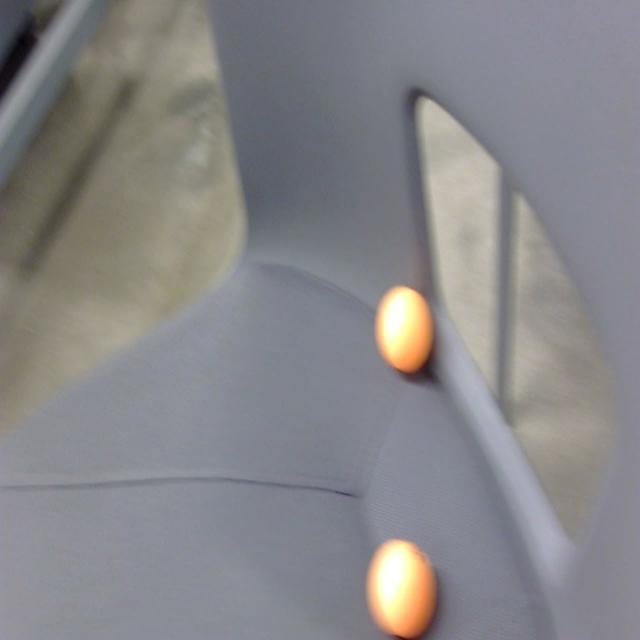ball: (367, 536, 439, 640), (378, 282, 434, 378)
